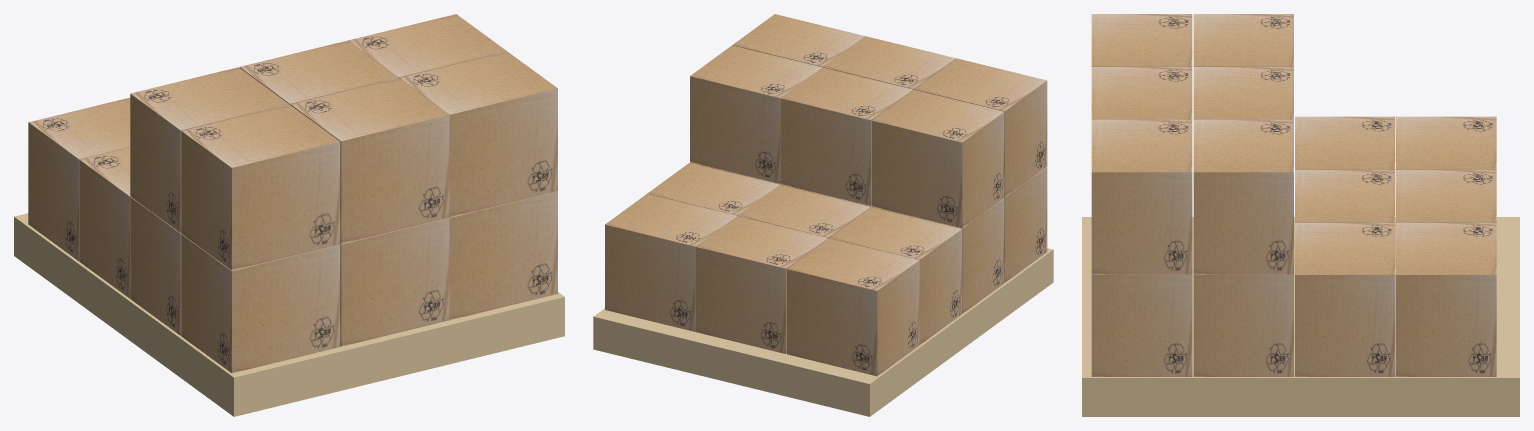
The picture shows the model from 3 angles, left to right: view 1: azimuth 30°, elevation 25°; view 2: azimuth 150°, elevation 25°; view 3: azimuth 270°, elevation 25°; orthographic projection. The views are drawn at different scales.
Visible parts, largest first — view 1: Cube (×6), Cube.1 (×4), 2.1, Cube.3, Cube.2; view 2: Cube.1 (×4), Cube.3 (×3), Cube (×4), 2.1, Cube.2 (×3); view 3: Cube (×4), Cube.1 (×4), Cube.3 (×3), Cube.2 (×3), 2.1.
Part boxes in pixels (left/top/right/bottom): Cube (×6): left=181, top=51, right=557, bottom=373; Cube.1 (×4): left=130, top=14, right=506, bottom=335; 2.1: left=14, top=213, right=564, bottom=416; Cube.3: left=28, top=97, right=130, bottom=261; Cube.2: left=79, top=147, right=130, bottom=298; Cube.1 (×4): left=690, top=45, right=1004, bottom=313; Cube.3 (×3): left=605, top=193, right=919, bottom=376; Cube (×4): left=733, top=14, right=1047, bottom=282; 2.1: left=593, top=248, right=1053, bottom=416; Cube.2 (×3): left=647, top=162, right=961, bottom=344; Cube (×4): left=1091, top=14, right=1192, bottom=376; Cube.1 (×4): left=1193, top=14, right=1293, bottom=376; Cube.3 (×3): left=1396, top=116, right=1496, bottom=376; Cube.2 (×3): left=1295, top=116, right=1395, bottom=376; 2.1: left=1082, top=217, right=1519, bottom=416.
Bounding box in the file's own units: 200 × 141 × 230.
2 materials, 1 textured.
